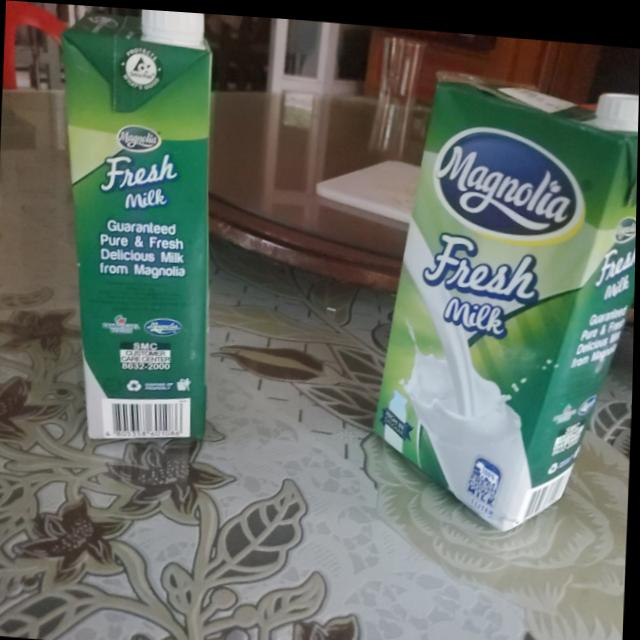milk: (373, 61, 639, 529), (53, 3, 226, 438)
